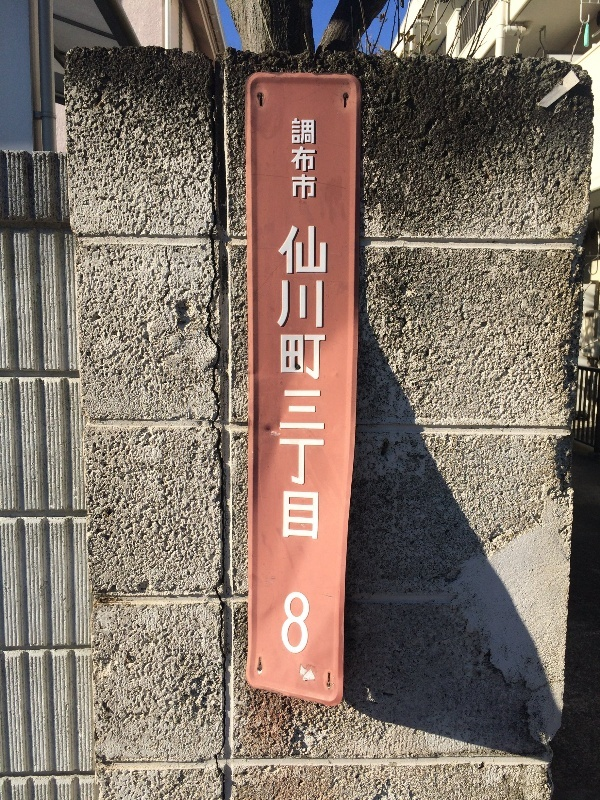text: (289, 227, 304, 658), (305, 227, 320, 658), (279, 227, 288, 658), (321, 227, 328, 658), (291, 118, 304, 199), (305, 118, 316, 199)
